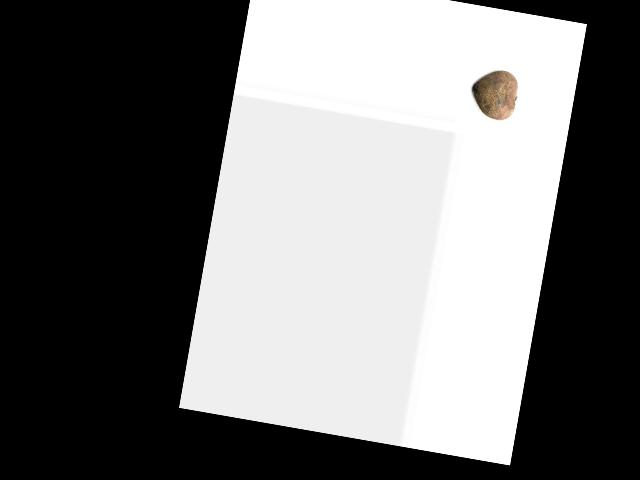beet: (467, 66, 520, 122)
